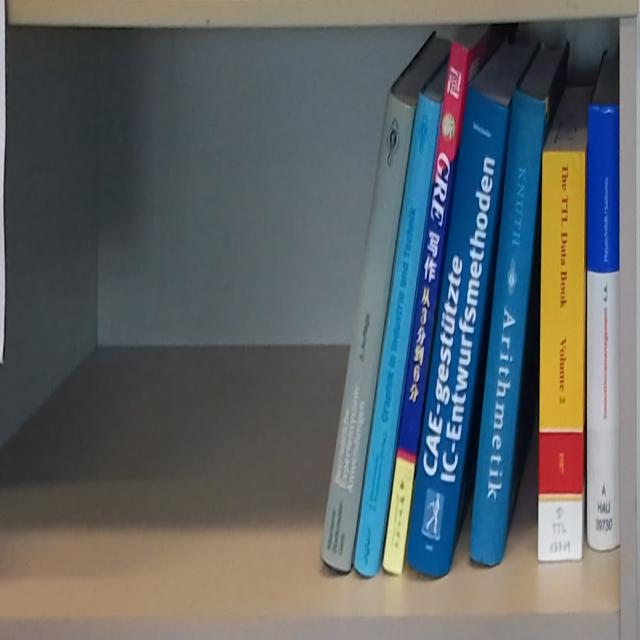Book Spine: (405, 90, 510, 582), (320, 90, 417, 572), (382, 37, 468, 578), (354, 92, 440, 577), (469, 92, 546, 567), (537, 154, 586, 563), (586, 104, 619, 557)
